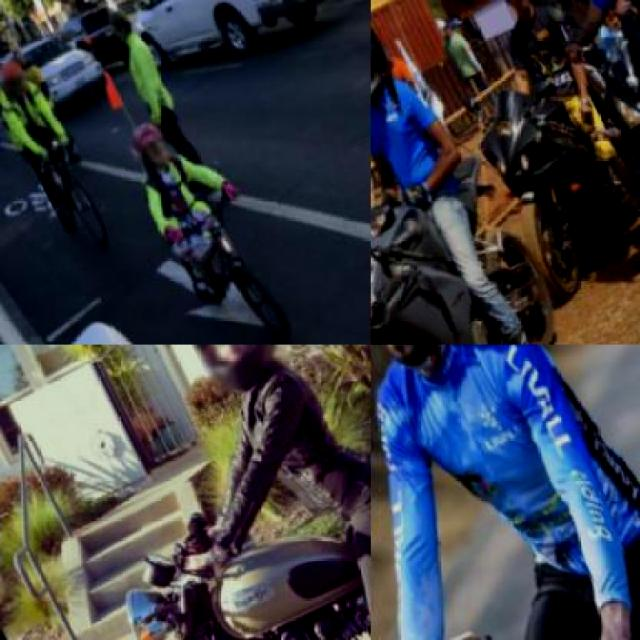With Helmet: (161, 345, 294, 400), (371, 0, 403, 108), (128, 116, 180, 175), (0, 55, 35, 102)
Without Helmet: (494, 0, 538, 23)
